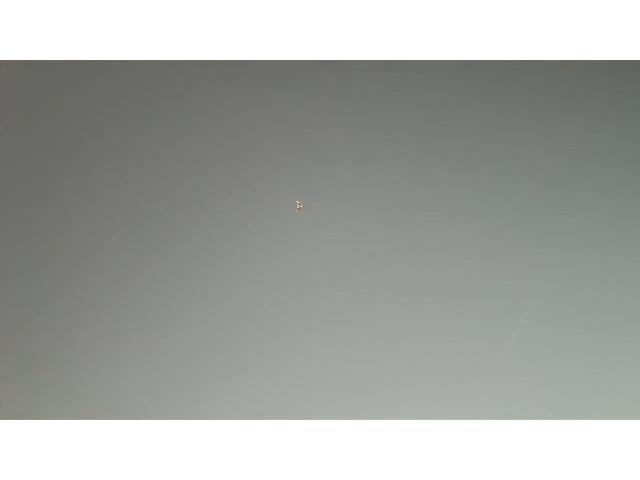Anti-Drone: (289, 197, 309, 212)
